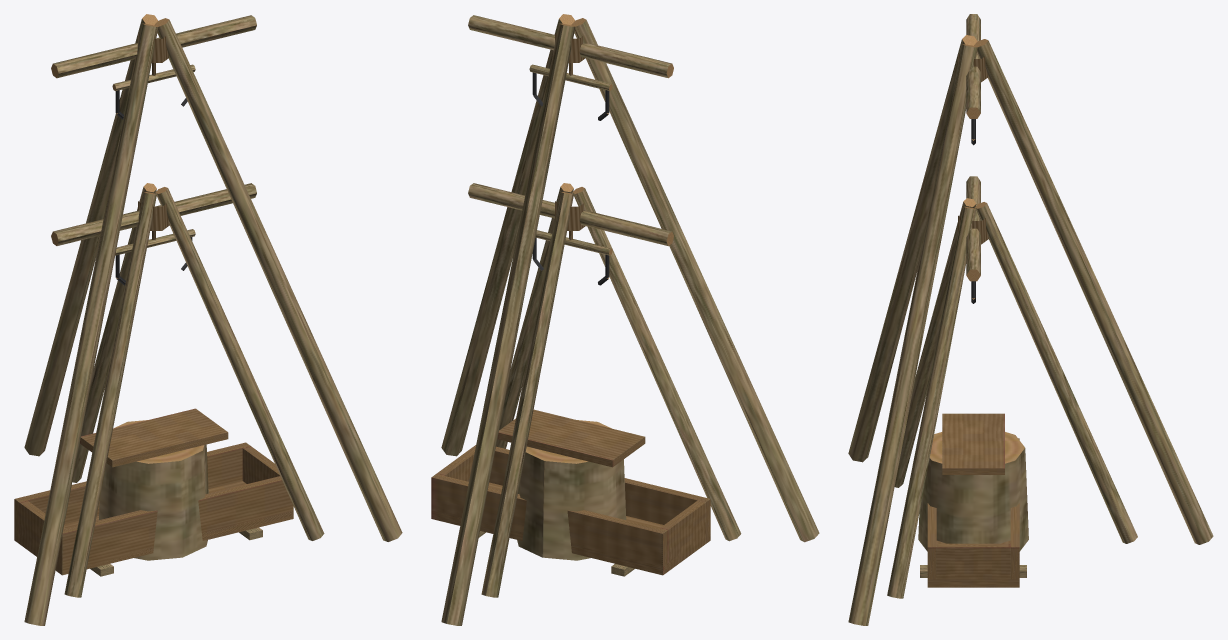
Rendered from slaughter.glb.
The picture shows the model from 3 angles, left to right: view 1: azimuth 30°, elevation 25°; view 2: azimuth 150°, elevation 25°; view 3: azimuth 270°, elevation 25°; orthographic projection. The views are drawn at different scales.
Parts seen in each view (by area): view 1: trestle-large, trestle-small, trough, block; view 2: trestle-large, trestle-small, trough, block; view 3: trestle-large, trestle-small, block, trough.
Boxes of the visible parts, left/top/right/bottom form: trestle-large: left=24, top=14, right=402, bottom=625; trestle-small: left=51, top=183, right=324, bottom=597; trough: left=14, top=442, right=293, bottom=576; block: left=80, top=408, right=228, bottom=560; trestle-large: left=441, top=14, right=819, bottom=625; trestle-small: left=468, top=183, right=741, bottom=597; trough: left=431, top=445, right=710, bottom=576; block: left=497, top=409, right=645, bottom=560; trestle-large: left=848, top=14, right=1213, bottom=625; trestle-small: left=887, top=176, right=1137, bottom=598; block: left=918, top=413, right=1028, bottom=551; trough: left=920, top=438, right=1026, bottom=587.
Bounding box in the file's own units: 2.26 × 3.01 × 1.98.
Materials: 1 (1 with a texture image).
